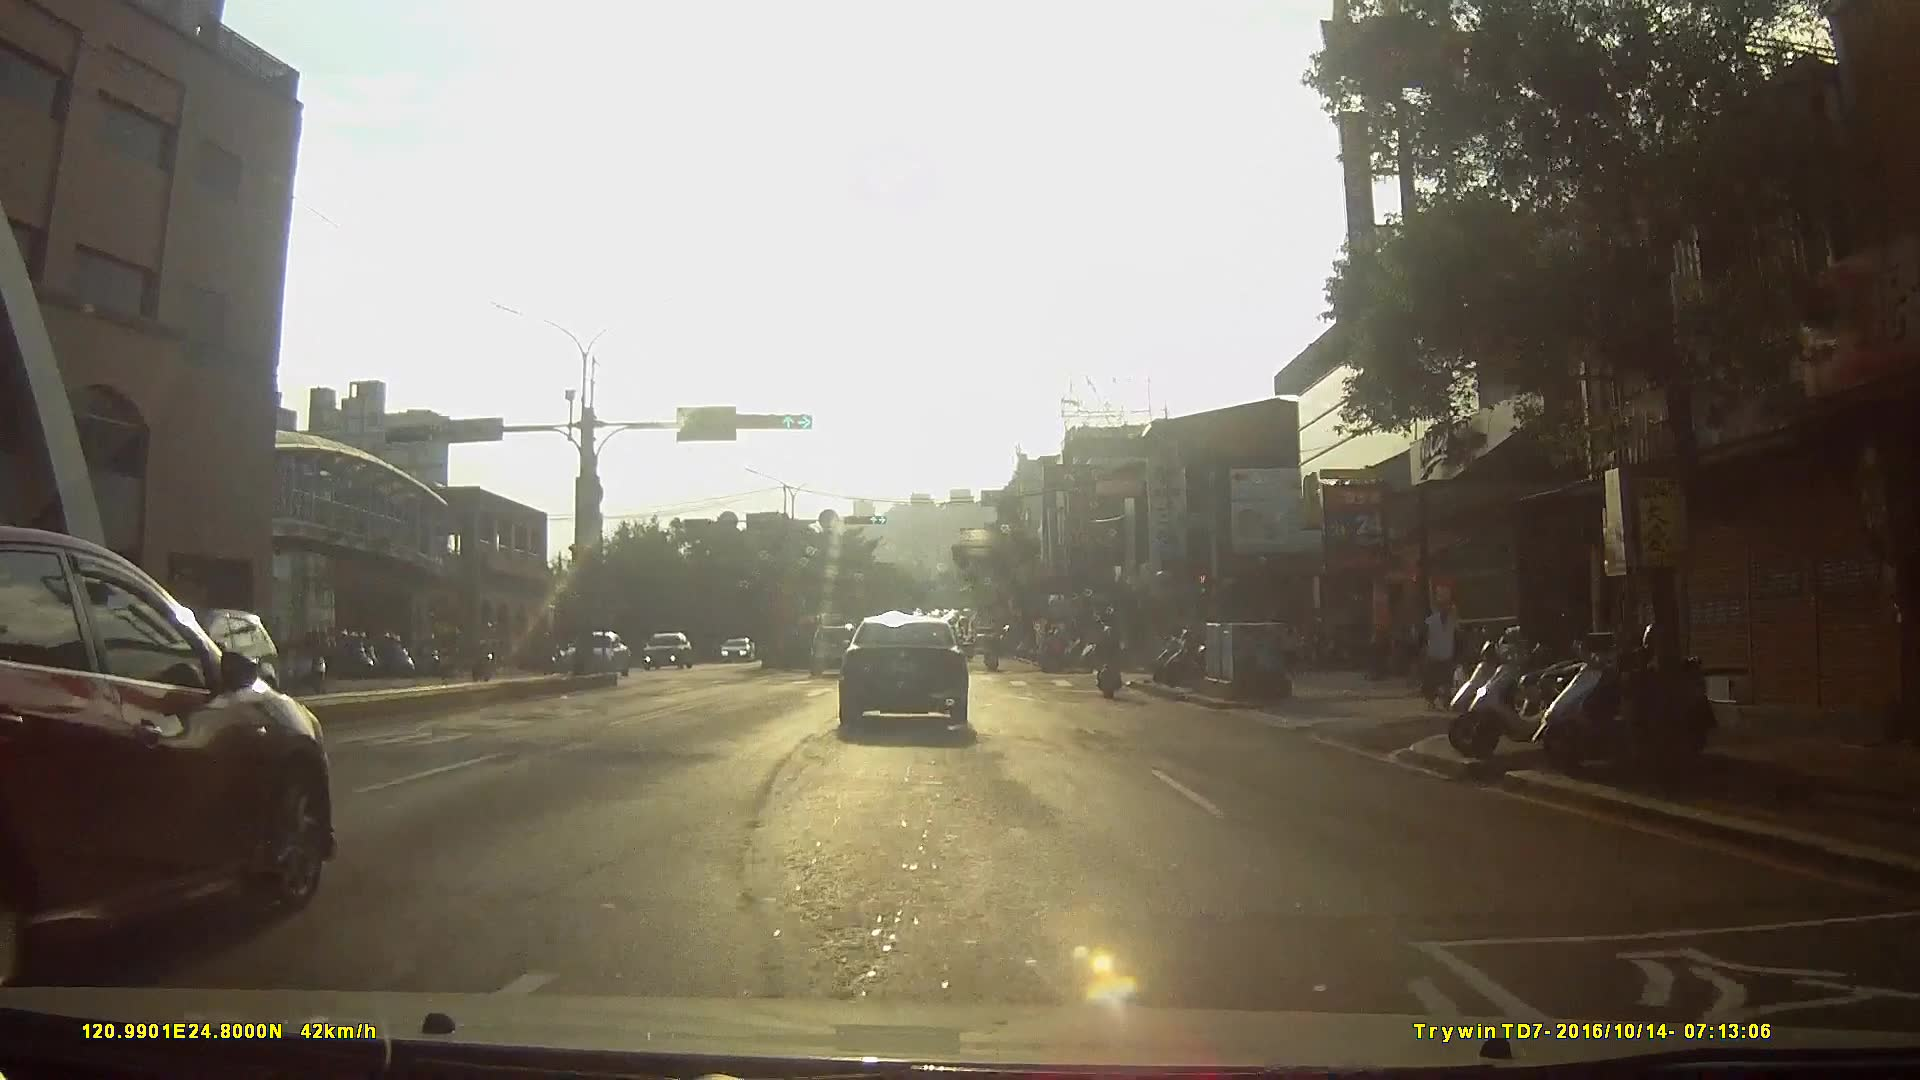pedestrian: (1413, 594, 1462, 717)
rider: (290, 627, 331, 693), (374, 632, 423, 681), (1093, 620, 1124, 697), (1038, 629, 1070, 677), (984, 630, 1004, 673)
vehicle: (1, 524, 348, 991), (836, 610, 985, 735), (131, 602, 287, 708), (563, 630, 635, 682), (807, 627, 866, 682), (644, 632, 697, 675), (716, 636, 759, 668)
